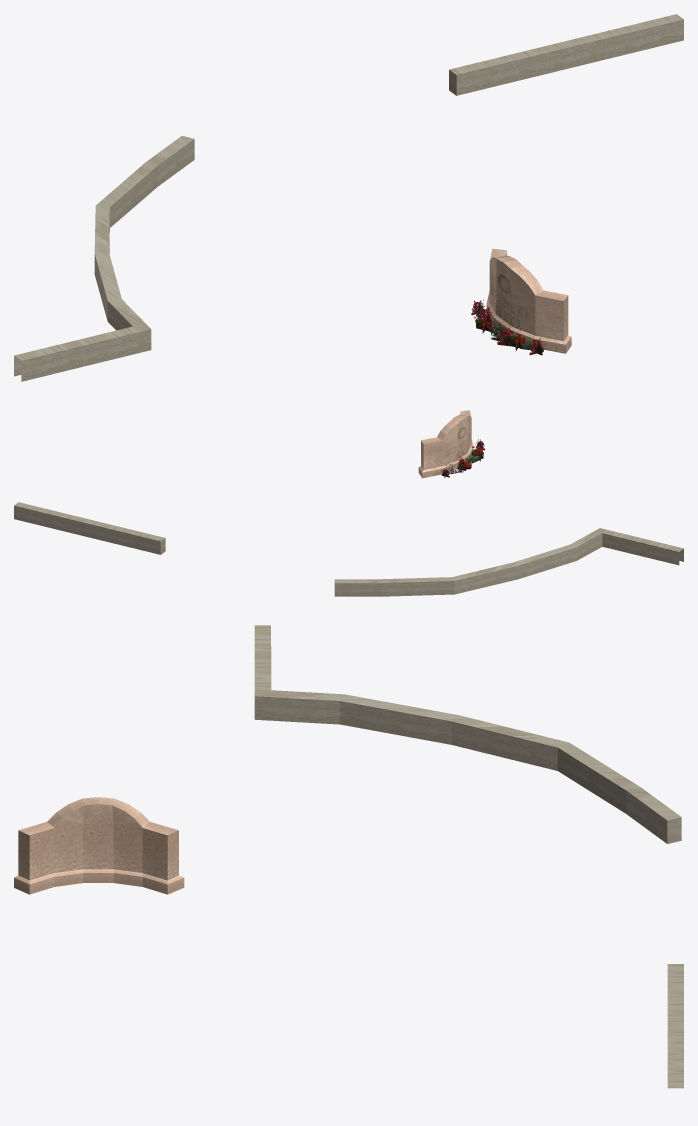
Rendered from golfsign1_vgn.obj.
The picture shows the model from 3 angles, top to bottom: view 1: azimuth 30°, elevation 25°; view 2: azimuth 150°, elevation 25°; view 3: azimuth 270°, elevation 25°; orthographic projection. The views are drawn at different scales.
Visible parts, largest first — view 1: golfsign1_vgn; view 2: golfsign1_vgn; view 3: golfsign1_vgn.
Part boxes in pixels (x1,y1,x2,y2): golfsign1_vgn: [14, 14, 683, 381]; golfsign1_vgn: [14, 410, 683, 596]; golfsign1_vgn: [14, 625, 683, 1088].
Bounding box in the file's own units: 66.43 × 5.23 × 40.62.
6 materials, 6 textured.
